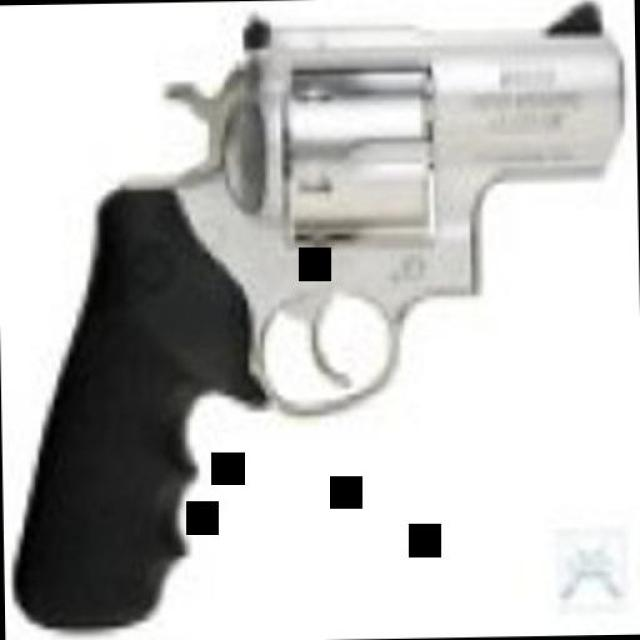gun: (0, 0, 631, 628)
